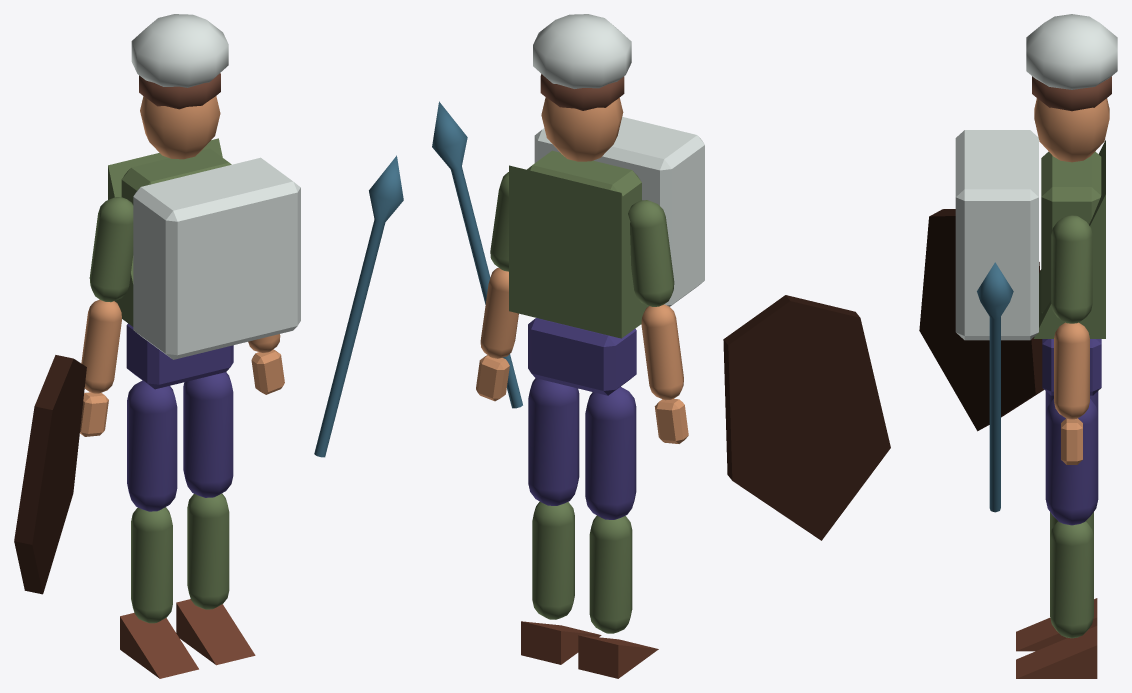
File: adventurer.rustic.glb
3 renders of one model, left to right at view 1: azimuth 30°, elevation 25°; view 2: azimuth 150°, elevation 25°; view 3: azimuth 270°, elevation 25°, orthographic.
Visible parts, largest first — view 1: accessory.body, accessory.off-hand, thigh.left, thigh.right, accessory.head, shin.right, shin.left, accessory.main-hand, upper-arm.left, head, pelvis, foot.right (+7 smaller); view 2: accessory.off-hand, tunic, accessory.body, pelvis, thigh.left, thigh.right, accessory.head, shin.left, shin.right, upper-arm.left, head, accessory.main-hand (+9 smaller); view 3: accessory.body, accessory.off-hand, accessory.head, thigh.right, shin.right, torso, upper-arm.right, accessory.main-hand, head, forearm.right, tunic, foot.right (+4 smaller).
Boxes of the visible parts, x1=… form: accessory.body: x1=133, y1=157, x2=300, y2=359; accessory.off-hand: x1=14, y1=355, x2=86, y2=594; thigh.left: x1=127, y1=380, x2=177, y2=511; thigh.right: x1=183, y1=372, x2=233, y2=497; accessory.head: x1=131, y1=14, x2=228, y2=87; shin.right: x1=187, y1=493, x2=229, y2=609; shin.left: x1=131, y1=507, x2=172, y2=623; accessory.main-hand: x1=314, y1=155, x2=403, y2=457; upper-arm.left: x1=89, y1=197, x2=133, y2=302; head: x1=140, y1=96, x2=220, y2=159; pelvis: x1=126, y1=323, x2=233, y2=389; foot.right: x1=176, y1=599, x2=255, y2=665; accessory.off-hand: x1=723, y1=295, x2=890, y2=540; tunic: x1=509, y1=165, x2=648, y2=338; accessory.body: x1=534, y1=117, x2=704, y2=306; pelvis: x1=528, y1=318, x2=636, y2=395; thigh.left: x1=585, y1=386, x2=636, y2=519; thigh.right: x1=528, y1=378, x2=579, y2=505; accessory.head: x1=533, y1=14, x2=631, y2=88; shin.left: x1=589, y1=515, x2=632, y2=633; shin.right: x1=532, y1=501, x2=574, y2=619; upper-arm.left: x1=628, y1=200, x2=674, y2=306; head: x1=541, y1=97, x2=623, y2=161; accessory.main-hand: x1=432, y1=101, x2=522, y2=408; accessory.body: x1=955, y1=130, x2=1038, y2=340; accessory.off-hand: x1=919, y1=209, x2=1044, y2=431; accessory.head: x1=1026, y1=14, x2=1117, y2=89; thigh.right: x1=1045, y1=399, x2=1098, y2=525; shin.right: x1=1050, y1=521, x2=1093, y2=638; torso: x1=1041, y1=151, x2=1101, y2=312; upper-arm.right: x1=1051, y1=215, x2=1092, y2=323; accessory.main-hand: x1=977, y1=262, x2=1013, y2=512; head: x1=1034, y1=98, x2=1109, y2=162; forearm.right: x1=1054, y1=322, x2=1089, y2=419; tunic: x1=1033, y1=140, x2=1105, y2=338; foot.right: x1=1016, y1=626, x2=1097, y2=678.
Size of the model in its own units: 2.23 by 3.2 by 0.9041.
